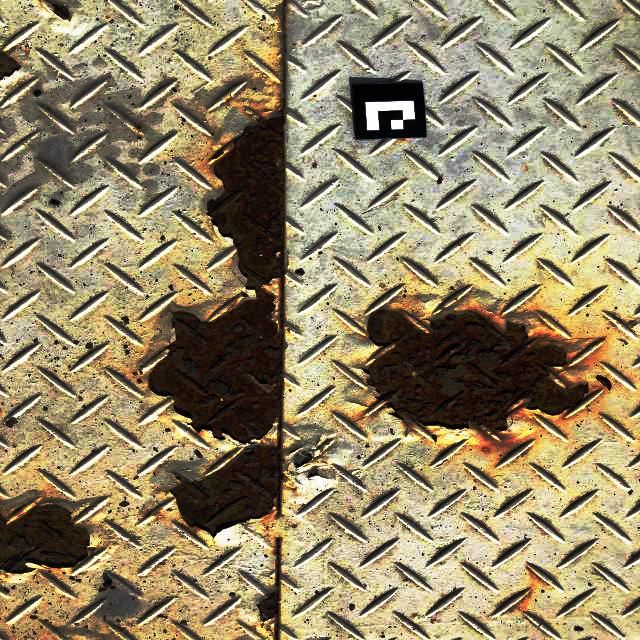Corrosion: (148, 117, 284, 445), (367, 309, 589, 440), (169, 445, 282, 538), (0, 504, 96, 574), (0, 48, 25, 84), (257, 589, 279, 628), (42, 0, 71, 21), (209, 146, 226, 162)
